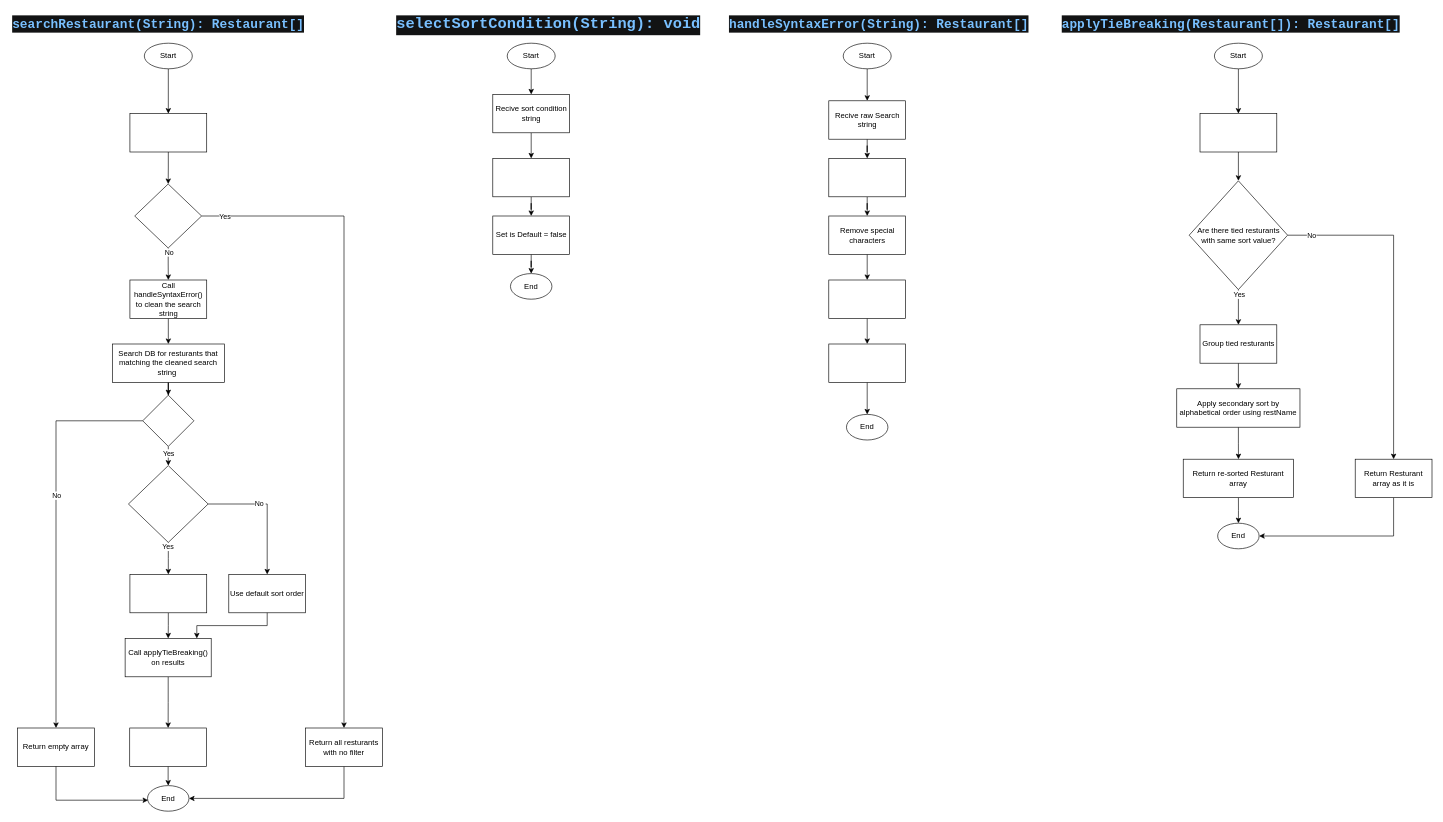
Some shapes in this 1443 by 822 pixel diagram are drawn without their labels. Here are the shapes that lost their labels. From the top down, the box of each, then its label:
(129, 113, 207, 152): Recive search string
(1199, 113, 1277, 152): Recive sorted Resturant array
(492, 158, 570, 197): Set sortCondition = recived string
(828, 158, 906, 197): convert string to lowercase
(134, 183, 202, 248): Is search string null?
(828, 279, 906, 318): Perform fuzzy matching against resturant name
(828, 343, 906, 382): Return matched Resturant array
(142, 395, 194, 446): Any results found?
(128, 465, 208, 542): Is a sortCondition selected?
(129, 574, 207, 613): Sort result by selected sortCondtion
(129, 727, 207, 766): Return sorted Restuarant array
